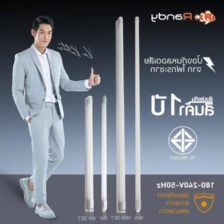light_bulb: (113, 14, 127, 215), (133, 13, 142, 215), (97, 93, 111, 215), (81, 95, 94, 216)
